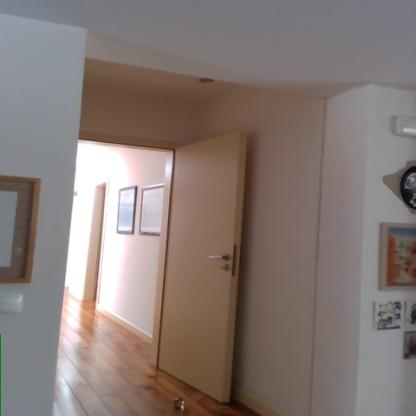open: (38, 128, 260, 396)
